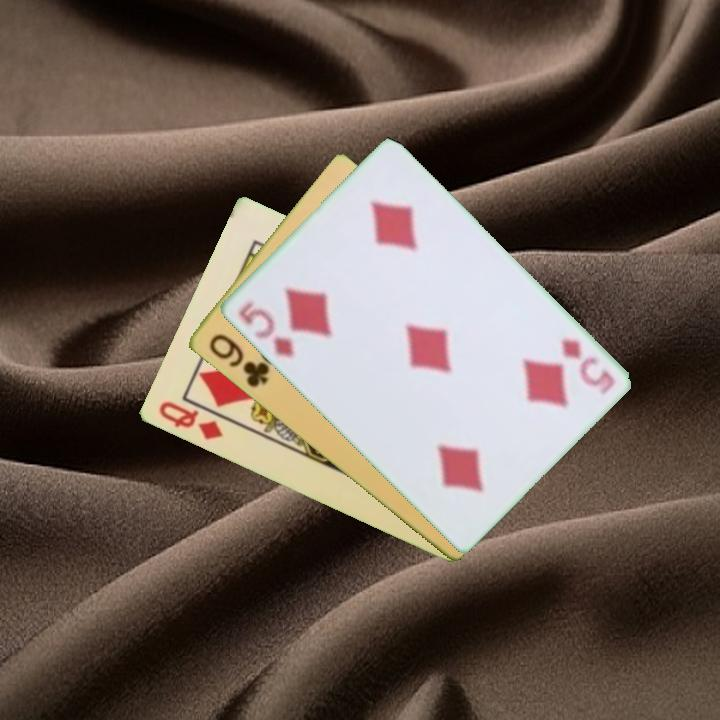5d: (234, 296, 297, 362), (556, 335, 618, 398)
9c: (205, 330, 272, 391)
Qd: (154, 397, 225, 443)
